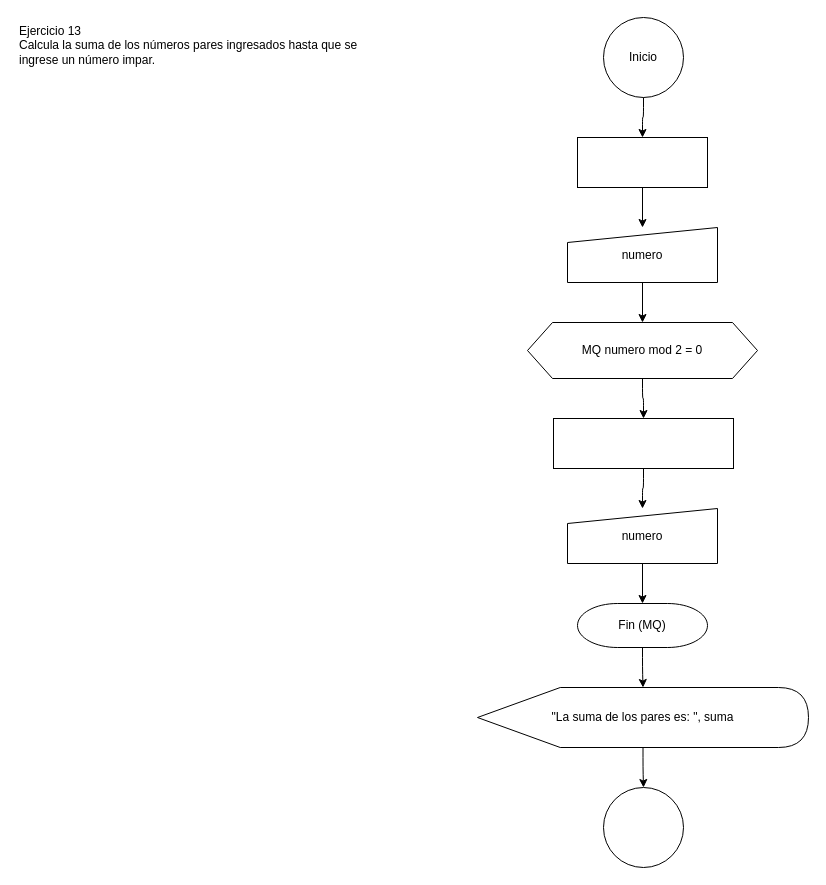
This 826x885 diagram has some shape labels left out. The shapes that lost their labels are listed below. From the top down, each one's centre as x and y in pixels, then its label:
the point at 642,162: suma ← 0
the point at 643,443: suma ← suma + numero
the point at 643,827: Fin
